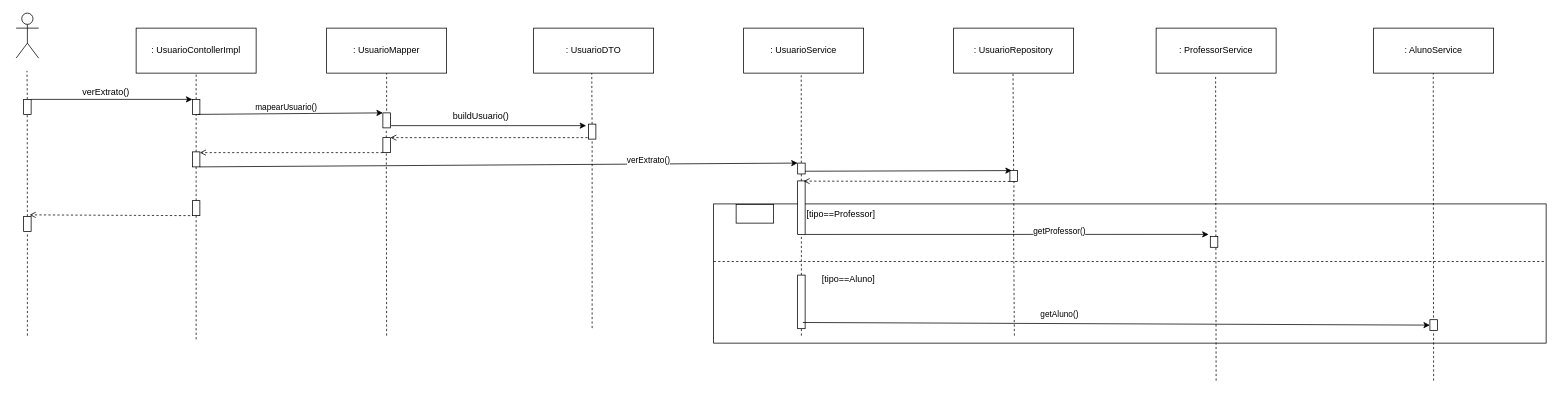
Some shapes in this 1560 by 395 pixel diagram are drawn without their labels. Each missing label, with the centre of its shape:
"alt" belongs at (x=754, y=213).
"usuario" belongs at (x=27, y=35).
